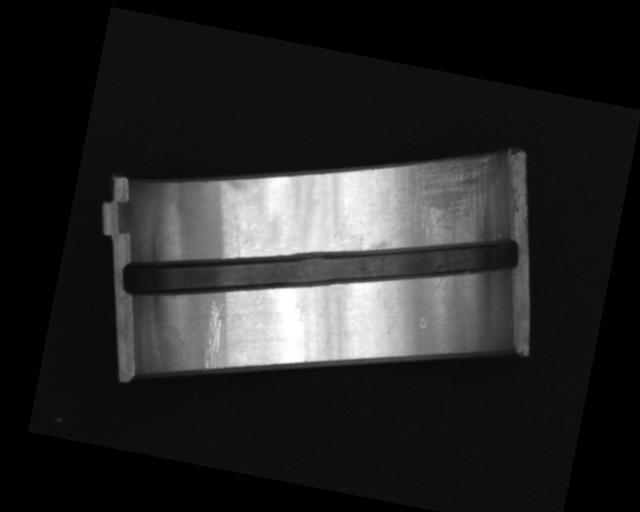bruise: (416, 316, 428, 330)
gap: (117, 167, 521, 366)
nick: (196, 297, 229, 373), (224, 214, 248, 260)
scratch: (366, 132, 509, 273)
